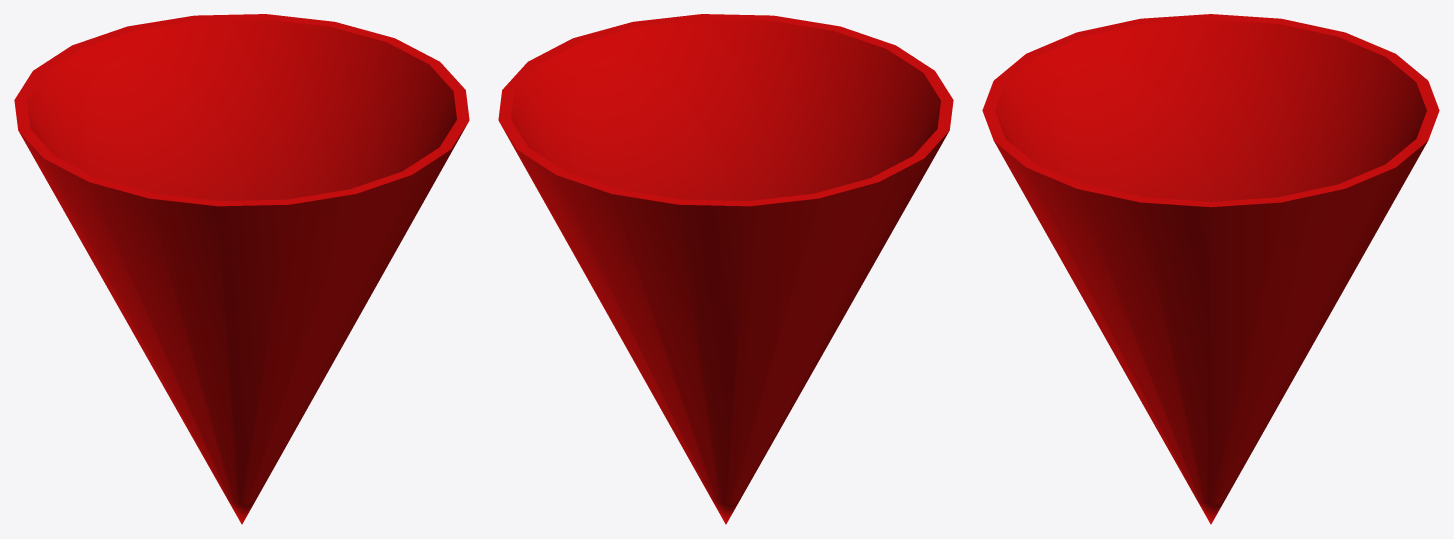
Rendered from Confetti_Cone.fbx.
3 views of the same model, side by side, from view 1: azimuth 30°, elevation 25°; view 2: azimuth 150°, elevation 25°; view 3: azimuth 270°, elevation 25° (orthographic).
Visible parts, largest first — view 1: Confetti_Cone; view 2: Confetti_Cone; view 3: Confetti_Cone.
Part boxes in pixels (<box>): Confetti_Cone: <box>14,14,469,524</box>; Confetti_Cone: <box>498,14,953,524</box>; Confetti_Cone: <box>982,14,1439,524</box>.
Size of the model in its own units: 2 by 2 by 2.
